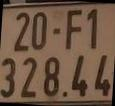-: (51, 27, 62, 35)
.: (61, 88, 68, 97)
0: (32, 11, 48, 49)
1: (86, 7, 98, 51)
2: (20, 56, 38, 99), (13, 12, 31, 52)
3: (2, 57, 15, 99)
4: (72, 55, 89, 98), (95, 53, 110, 97)
8: (43, 56, 60, 97)
F: (65, 8, 84, 50)
